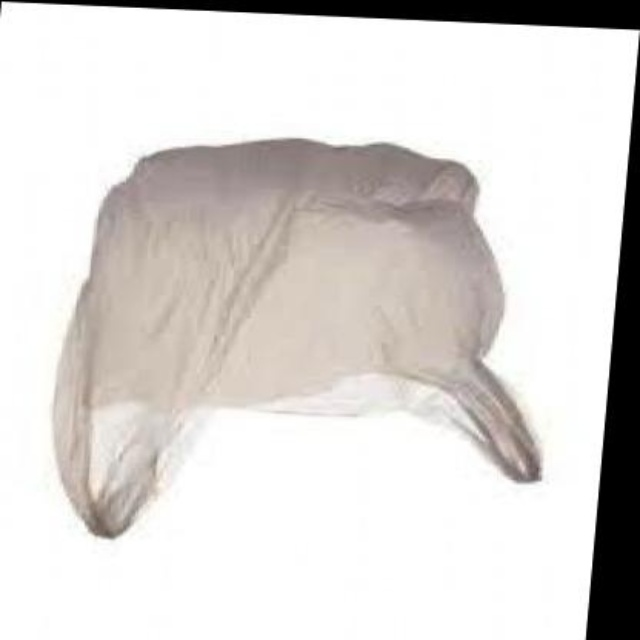trash: (54, 140, 540, 535)
